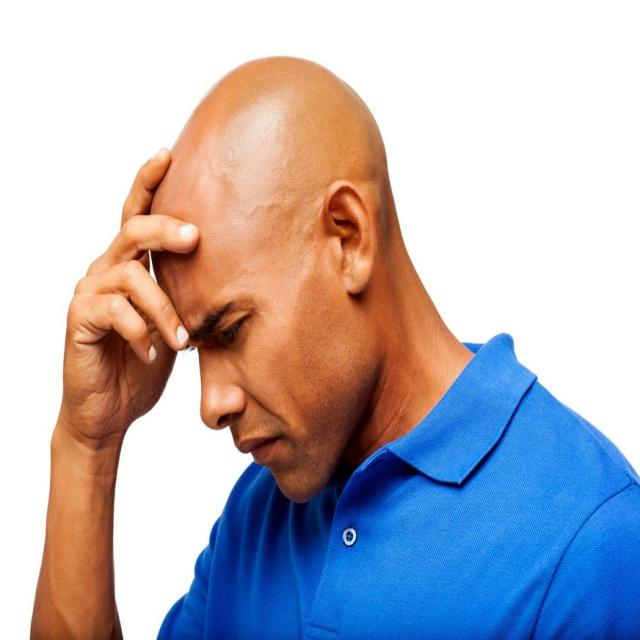no_helmet: (113, 37, 443, 275)
